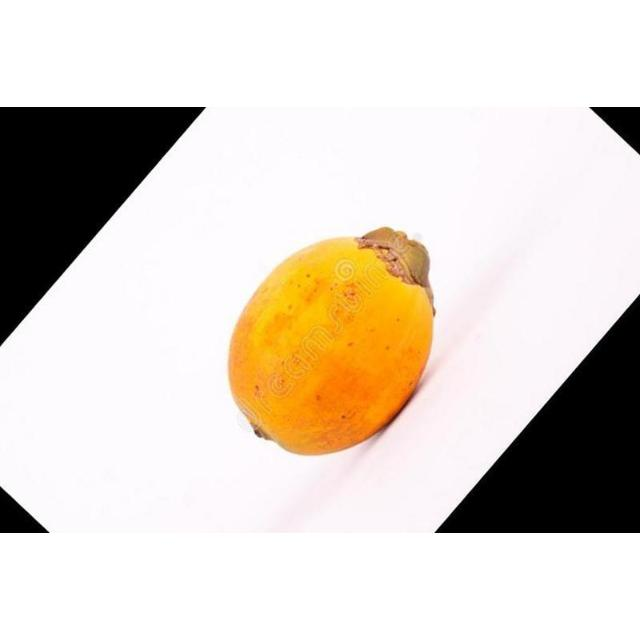good: (226, 229, 436, 458)
